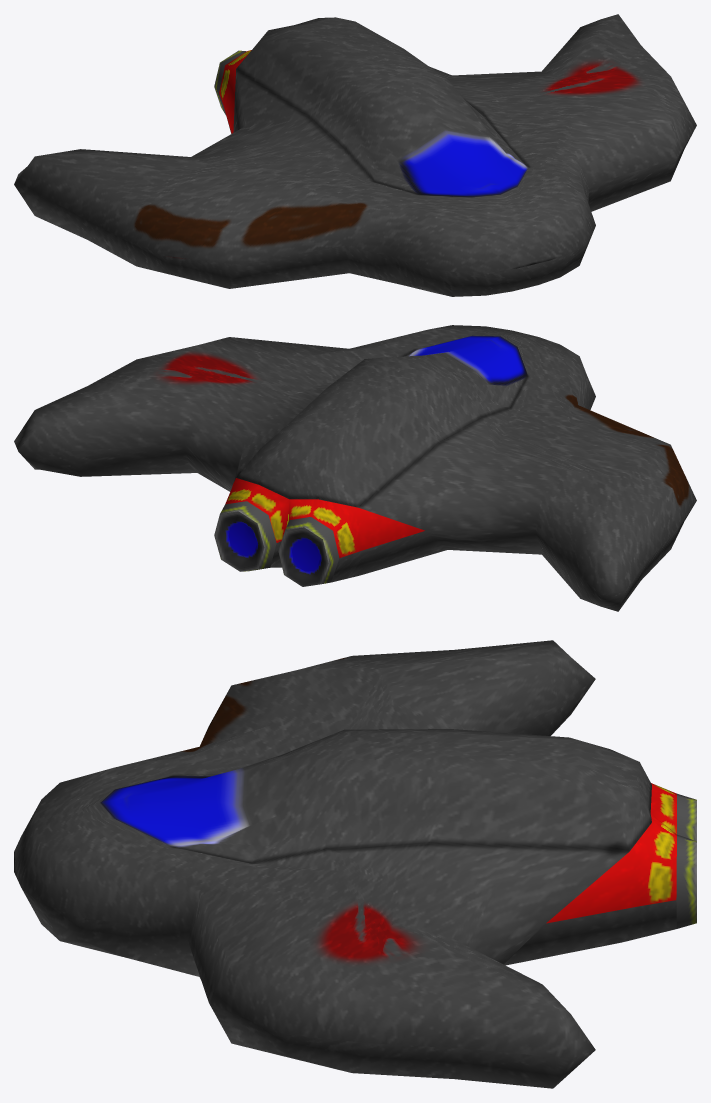
Rendered from SpaceShip8.fbx.
The picture shows the model from 3 angles, top to bottom: view 1: azimuth 30°, elevation 25°; view 2: azimuth 150°, elevation 25°; view 3: azimuth 270°, elevation 25°; orthographic projection. The views are drawn at different scales.
Visible parts, largest first — view 1: pCube1; view 2: pCube1; view 3: pCube1.
Part boxes in pixels (<box>): pCube1: <box>14,14,696,296</box>; pCube1: <box>14,325,696,611</box>; pCube1: <box>14,640,696,1088</box>.
Bounding box in the file's own units: 16.14 × 3.31 × 11.98.
